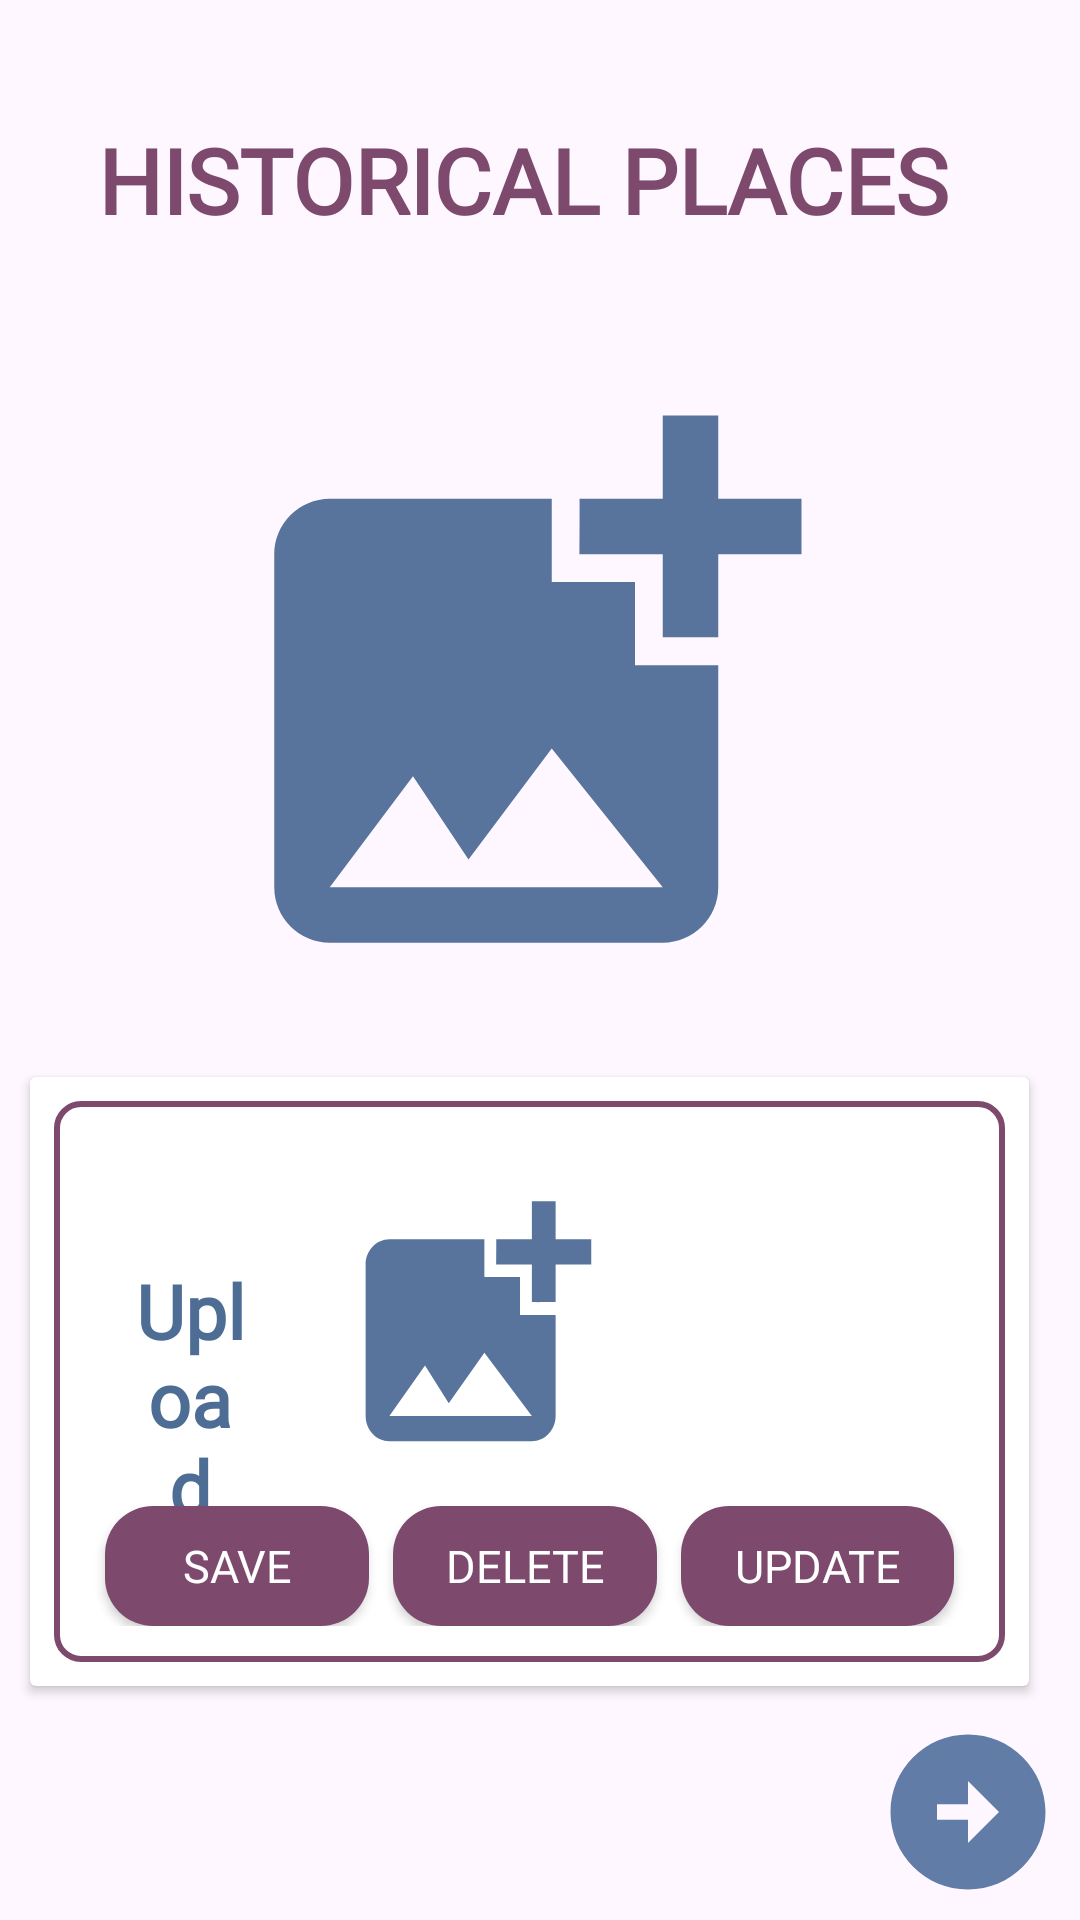

Screen size 1080 × 1920. Icon name, then its center in pixels as point (x, y):
arrow circle right: point (968, 1812)
